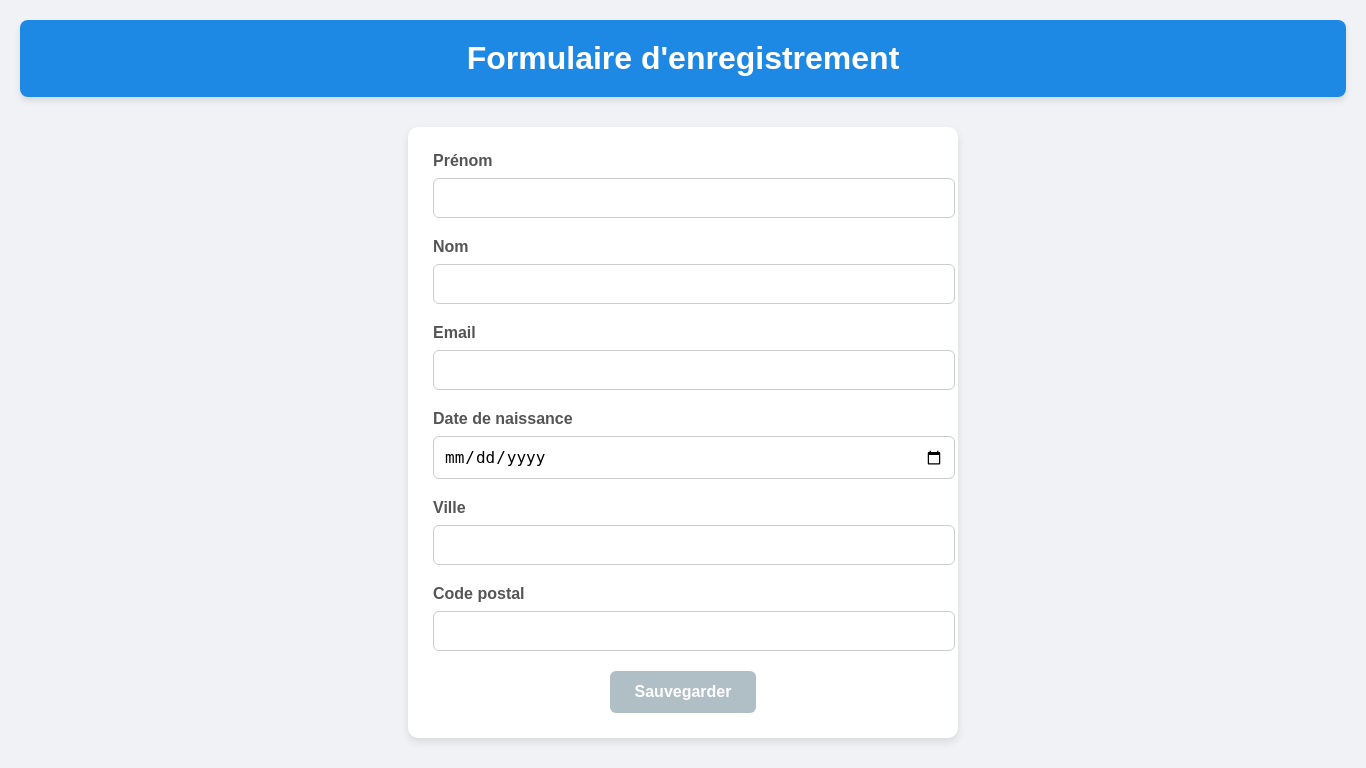
Test: Error tests › Validation des champs › affiche une erreur quand le code postal est invalide
Type "abc" into the field with test id "input-postalCode" at coordinates (694, 631), box top-left (433, 611), bottom-right (955, 651)
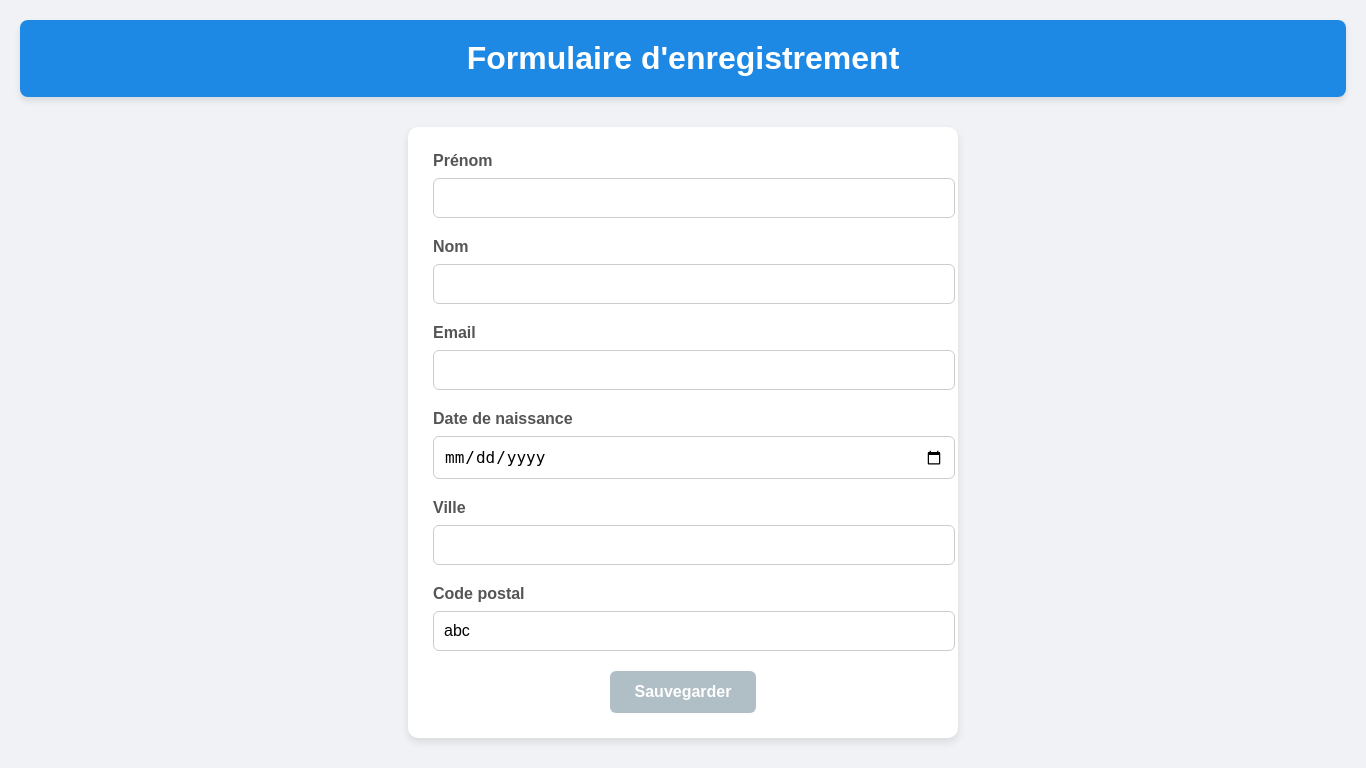
Submit the form with test id "registration-form", box top-left (408, 127), bottom-right (958, 738)
(page scrolled)
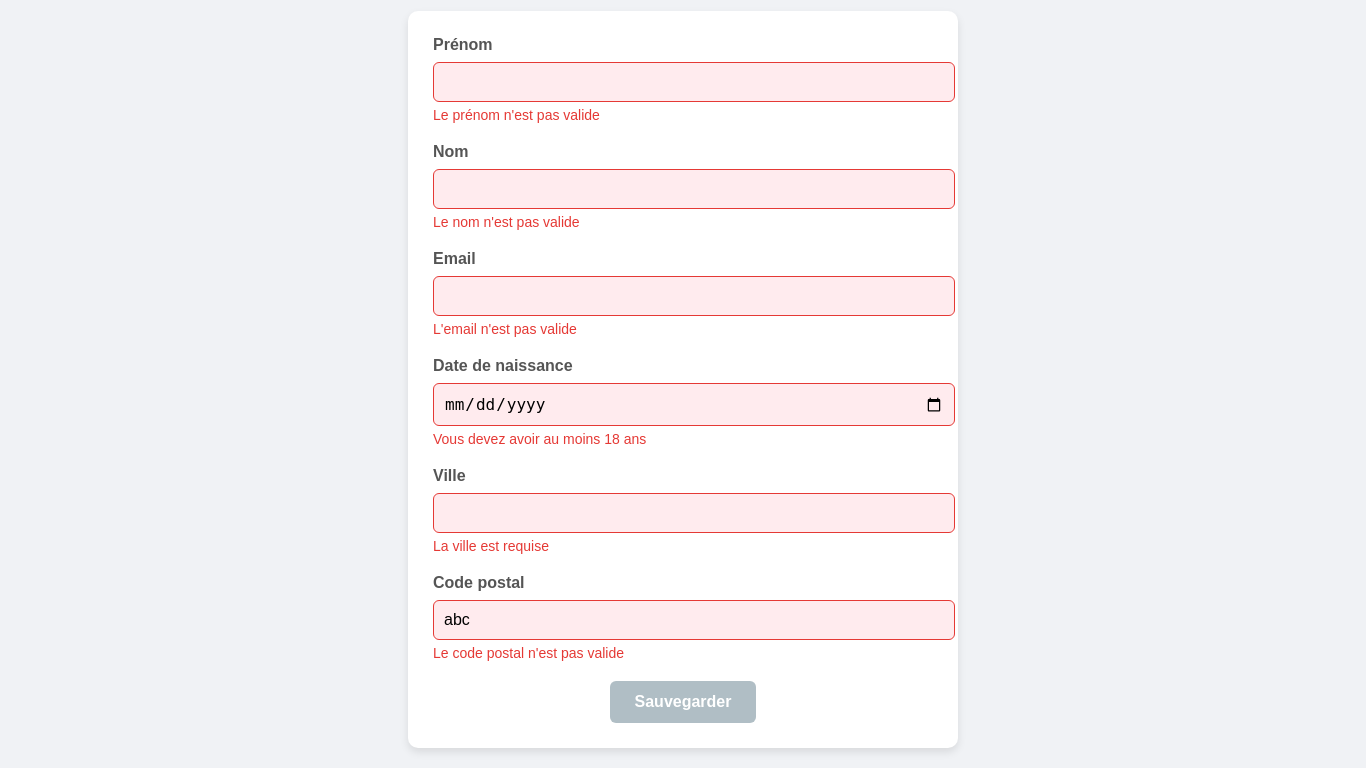
Expected: the text "Le code postal n'est pas valide" is shown, top-left (433, 645), bottom-right (624, 661)
